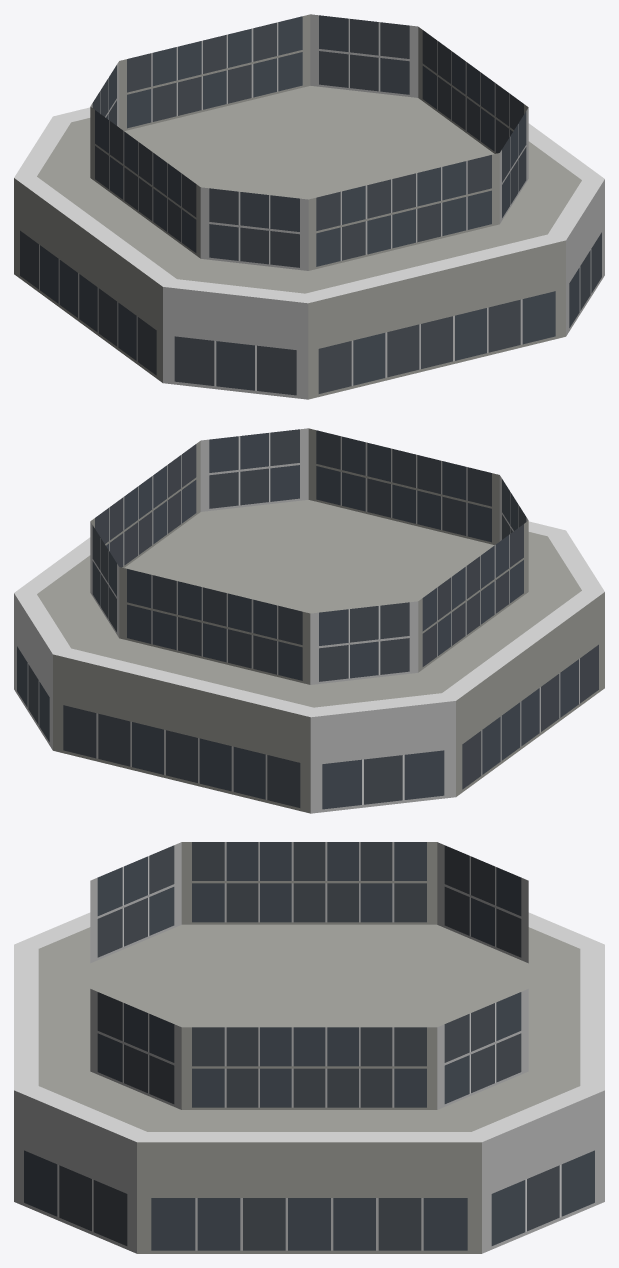
File: TB_CITY_Skysc_R_Mid_Top_Gray.FBX
The picture shows the model from 3 angles, top to bottom: view 1: azimuth 30°, elevation 25°; view 2: azimuth 150°, elevation 25°; view 3: azimuth 270°, elevation 25°; orthographic projection. The views are drawn at different scales.
Visible parts, largest first — view 1: TB_CITY_Skysc_R_Mid_Top_Gray; view 2: TB_CITY_Skysc_R_Mid_Top_Gray; view 3: TB_CITY_Skysc_R_Mid_Top_Gray.
Boxes of the visible parts, x1=… form: TB_CITY_Skysc_R_Mid_Top_Gray: x1=14, y1=14, x2=604, y2=399; TB_CITY_Skysc_R_Mid_Top_Gray: x1=14, y1=428, x2=604, y2=813; TB_CITY_Skysc_R_Mid_Top_Gray: x1=14, y1=842, x2=604, y2=1253.
Bounding box in the file's own units: 17.93 × 6.51 × 17.93.
